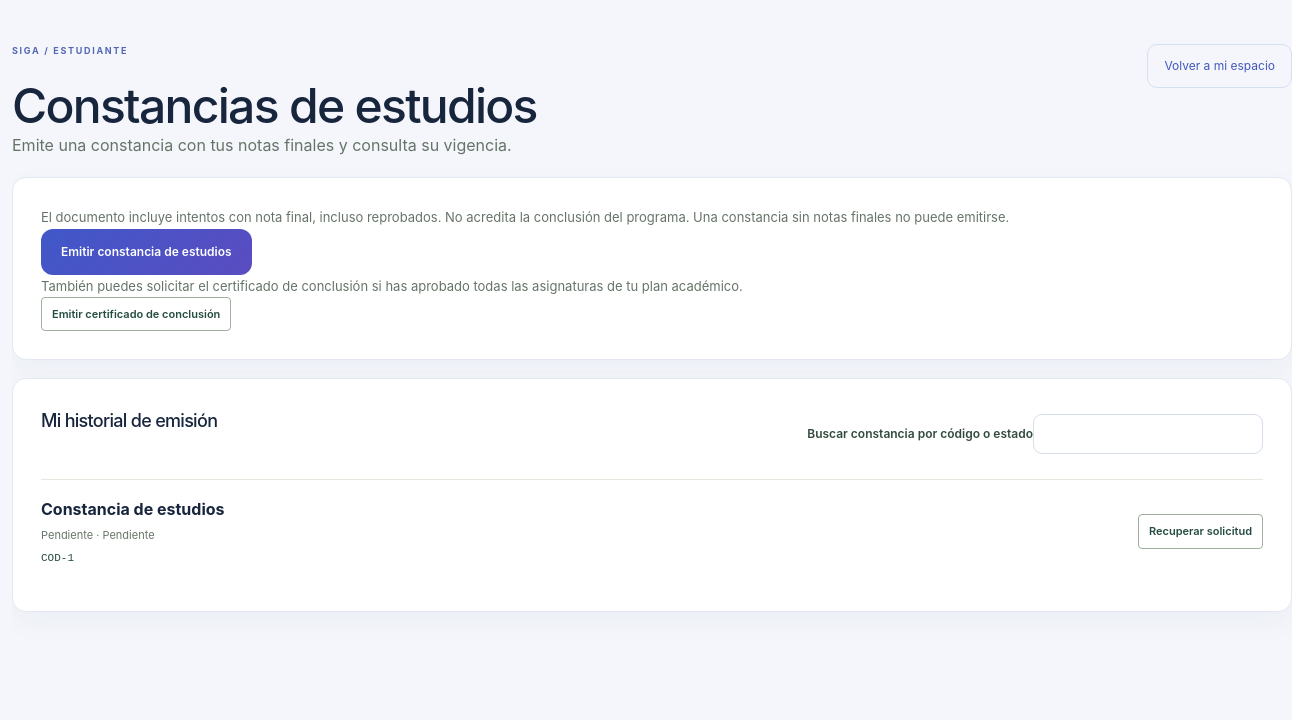
permite intentar de nuevo cuando falla la recuperación
This screenshot has width=1292, height=720.
Click the button "Recuperar solicitud" at (1200, 532), box [1138,514,1263,549]
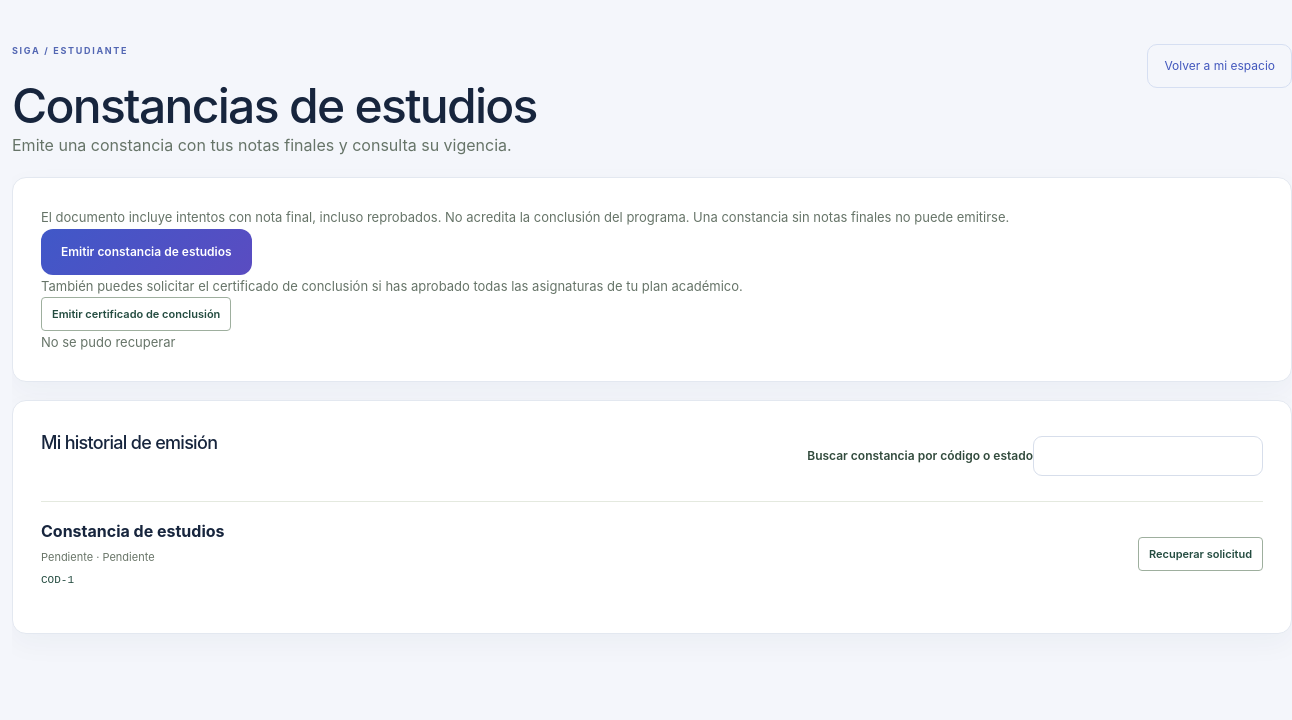
Check: the button "Recuperar solicitud" is enabled, box [1138,536,1263,571]
Check: the message reads "No se pudo recuperar", box [41,334,175,350]
